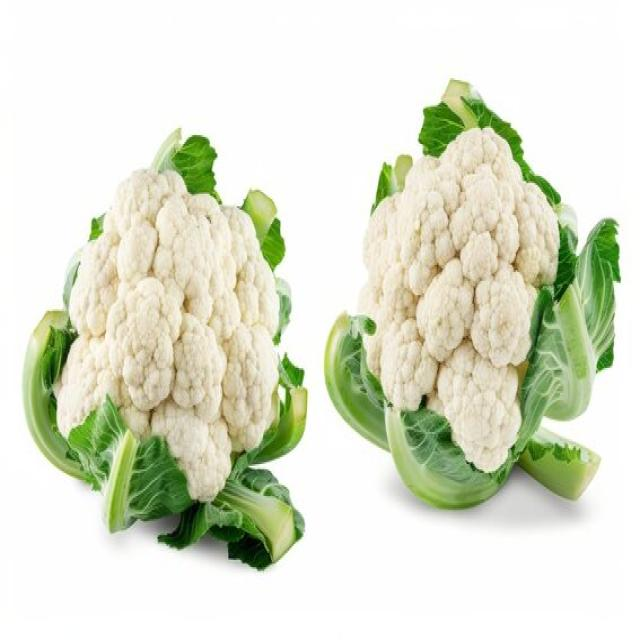Cauliflower: (328, 94, 626, 528), (52, 165, 283, 505)
